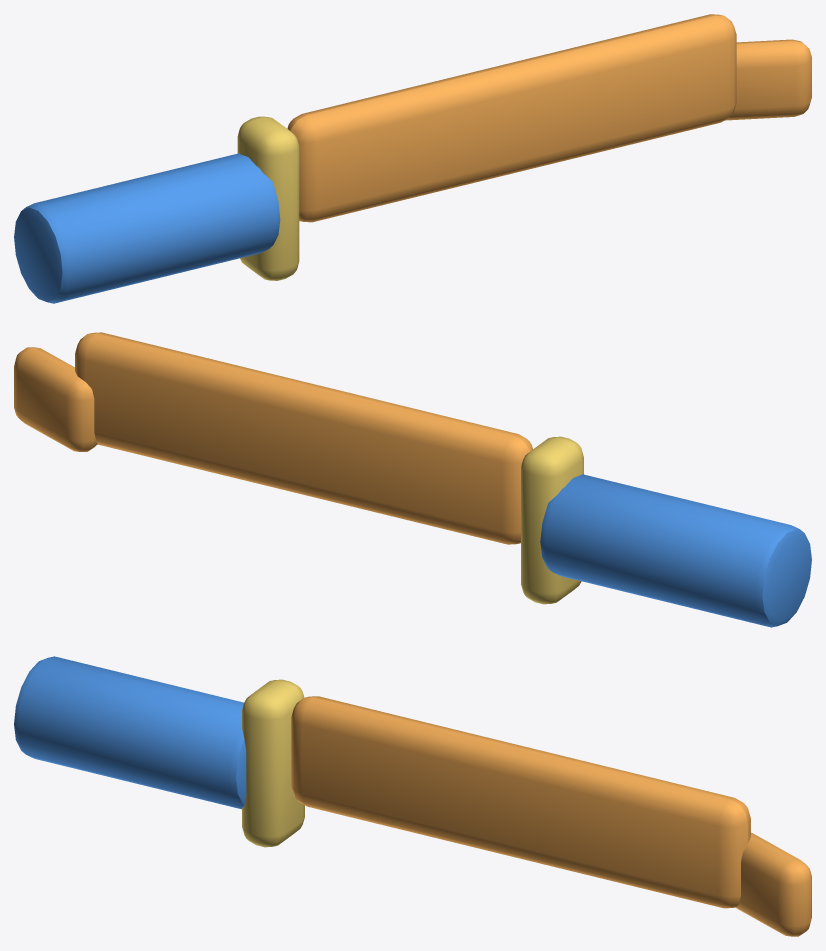
The model's file is knife.glb.
The picture shows the model from 3 angles, top to bottom: view 1: azimuth 30°, elevation 25°; view 2: azimuth 150°, elevation 25°; view 3: azimuth 330°, elevation 25°; orthographic projection.
Parts seen in each view (by area): view 1: blade, handle, guard, edge; view 2: blade, handle, edge, guard; view 3: blade, handle, guard, edge.
Boxes of the visible parts, x1,y1,x2,y2 form: blade: [287, 14, 736, 222]; handle: [14, 153, 280, 303]; guard: [237, 116, 299, 280]; edge: [725, 39, 811, 120]; blade: [75, 332, 532, 544]; handle: [540, 474, 811, 627]; edge: [14, 347, 97, 451]; guard: [521, 436, 583, 604]; blade: [291, 696, 750, 908]; handle: [14, 656, 246, 809]; guard: [242, 679, 304, 847]; edge: [735, 832, 811, 936].
Size of the model in its own units: 0.3786 by 0.07 by 0.044.
